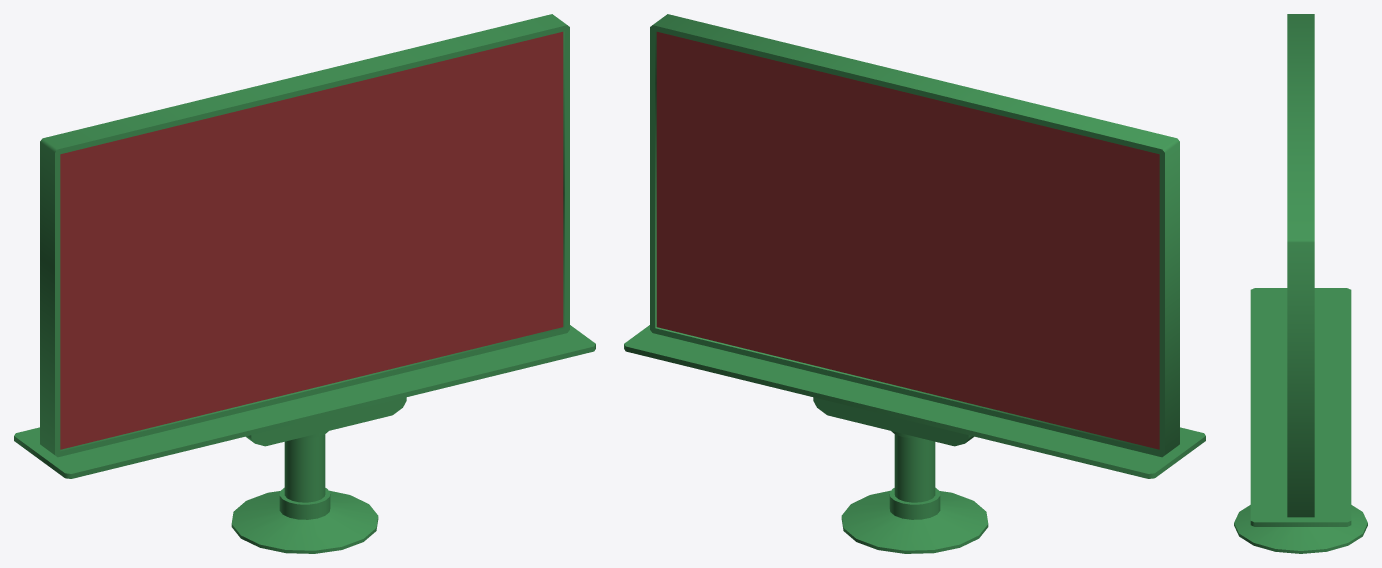
The model's file is Banner_Screen.FBX.
3 views of the same model, side by side, from view 1: azimuth 30°, elevation 25°; view 2: azimuth 150°, elevation 25°; view 3: azimuth 270°, elevation 25° (orthographic). The views are drawn at different scales.
Visible parts, largest first — view 1: Banner_Screen_1, Banner_Screen_Frame; view 2: Banner_Screen_2, Banner_Screen_Frame; view 3: Banner_Screen_Frame.
Boxes of the visible parts, x1,y1,x2,y2 form: Banner_Screen_1: [60, 31, 563, 449]; Banner_Screen_Frame: [14, 14, 595, 553]; Banner_Screen_2: [656, 31, 1159, 449]; Banner_Screen_Frame: [624, 14, 1205, 553]; Banner_Screen_Frame: [1234, 14, 1367, 553].
Bounding box in the file's own units: 3.3 × 0.7968 × 2.62.
